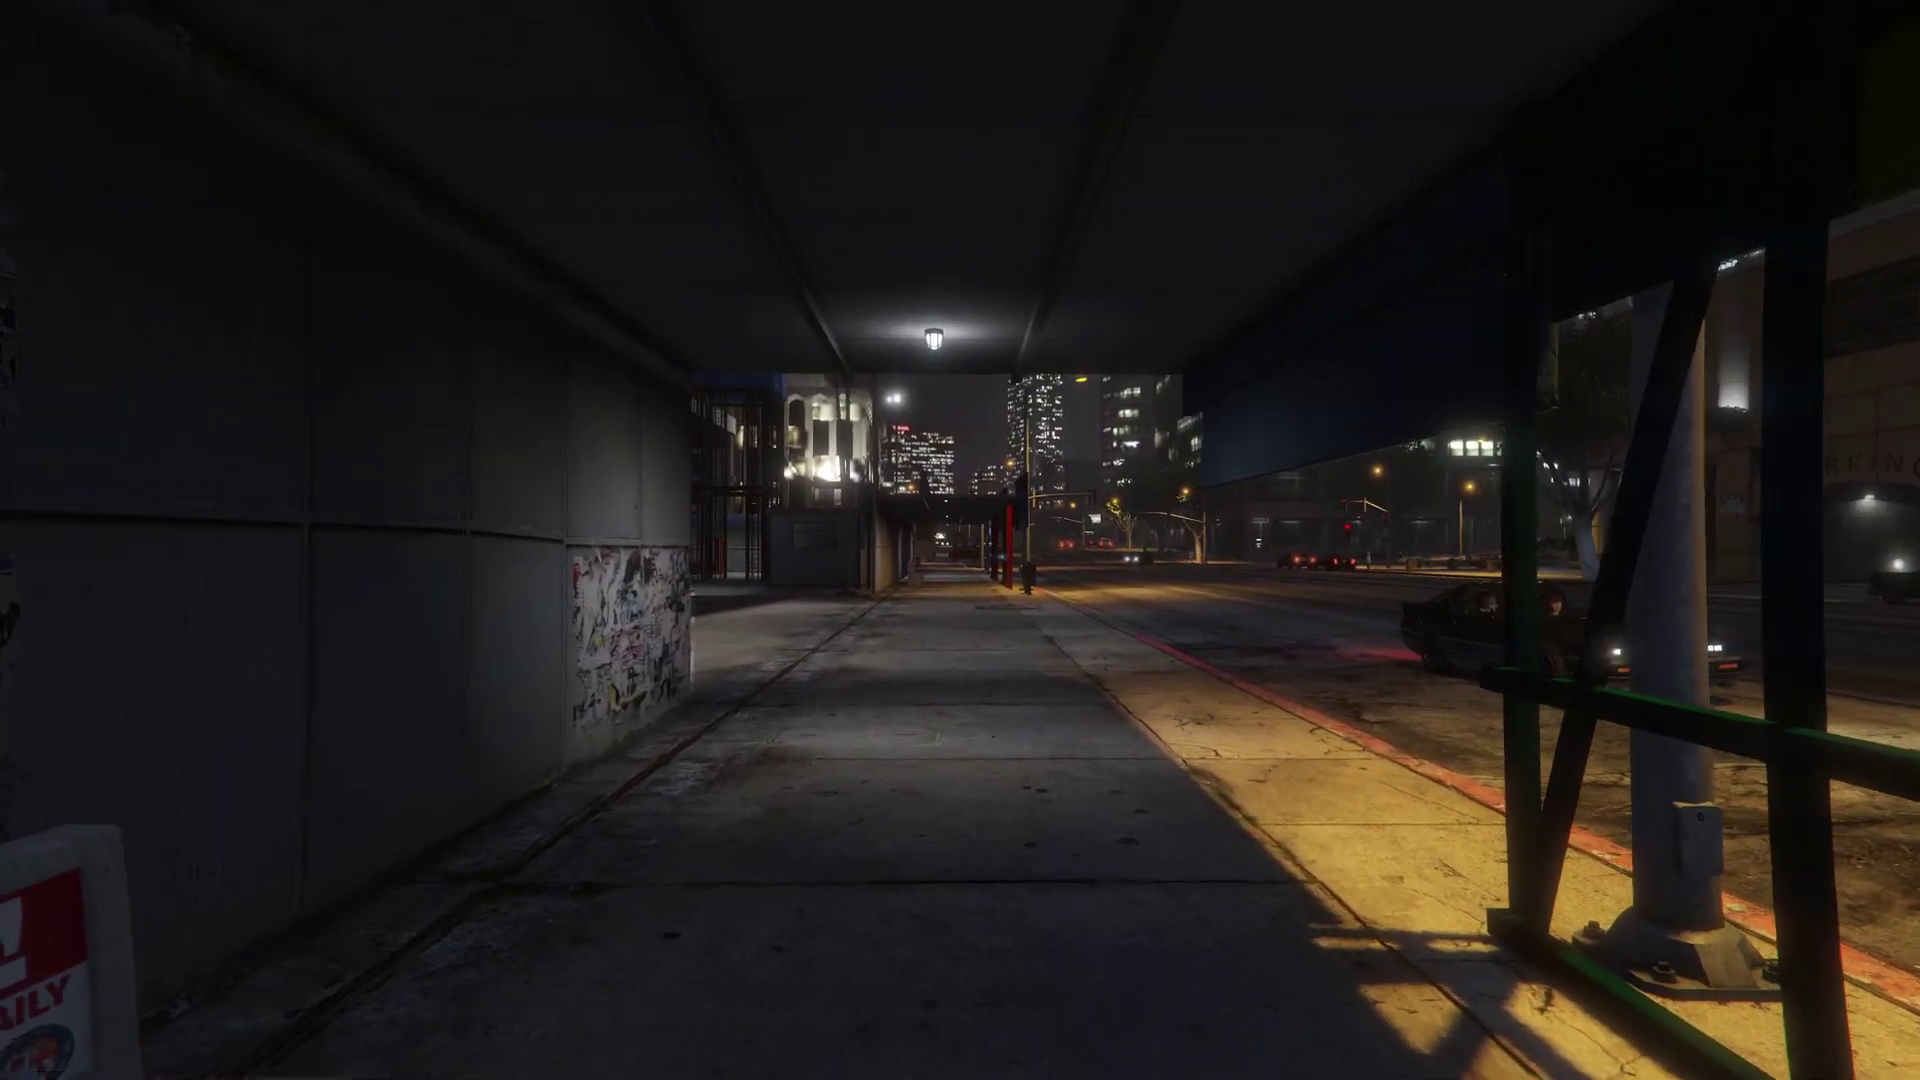car: (1400, 582, 1745, 705), (1278, 553, 1317, 570), (1327, 553, 1356, 571), (1125, 553, 1151, 564)
